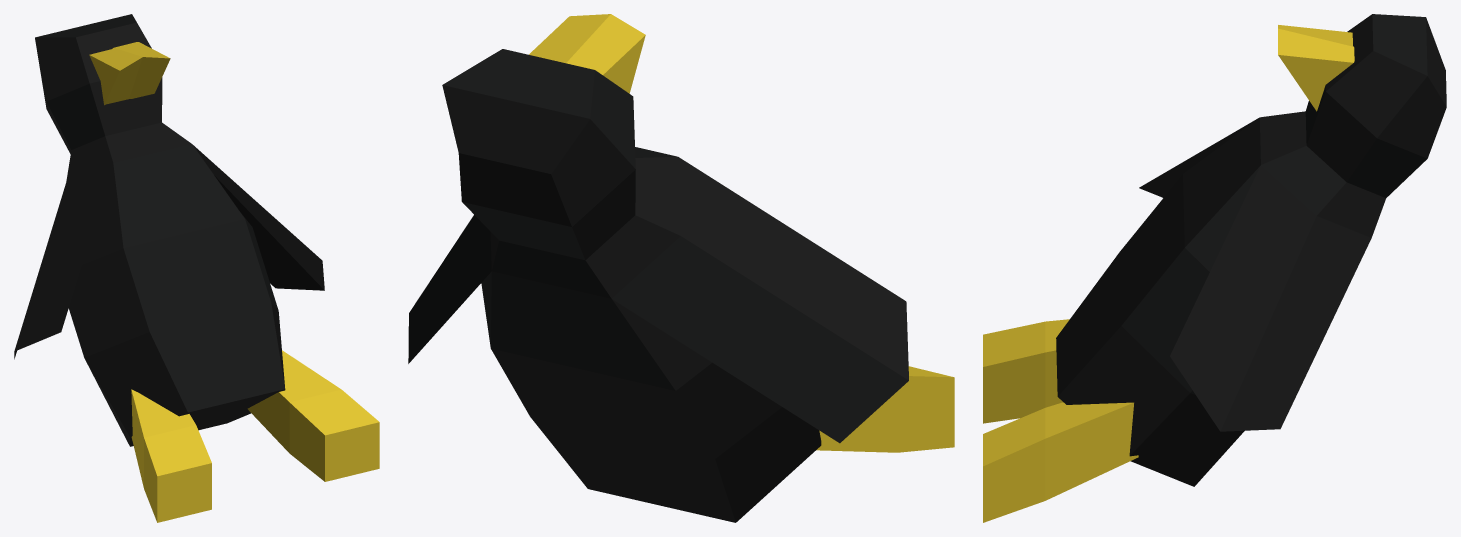
The model's file is Miras_Duck.obj.
3 views of the same model, side by side, from view 1: azimuth 30°, elevation 25°; view 2: azimuth 150°, elevation 25°; view 3: azimuth 270°, elevation 25° (orthographic). The views are drawn at different scales.
Visible parts, largest first — view 1: Cube.003; view 2: Cube.003; view 3: Cube.003.
Boxes of the visible parts, box(x1,y1,x2,y2) form: Cube.003: box(14, 14, 379, 522); Cube.003: box(408, 14, 954, 522); Cube.003: box(983, 14, 1446, 522).
Bounding box in the file's own units: 0.5607 × 0.5885 × 0.5764.
2 materials, 2 textured.
